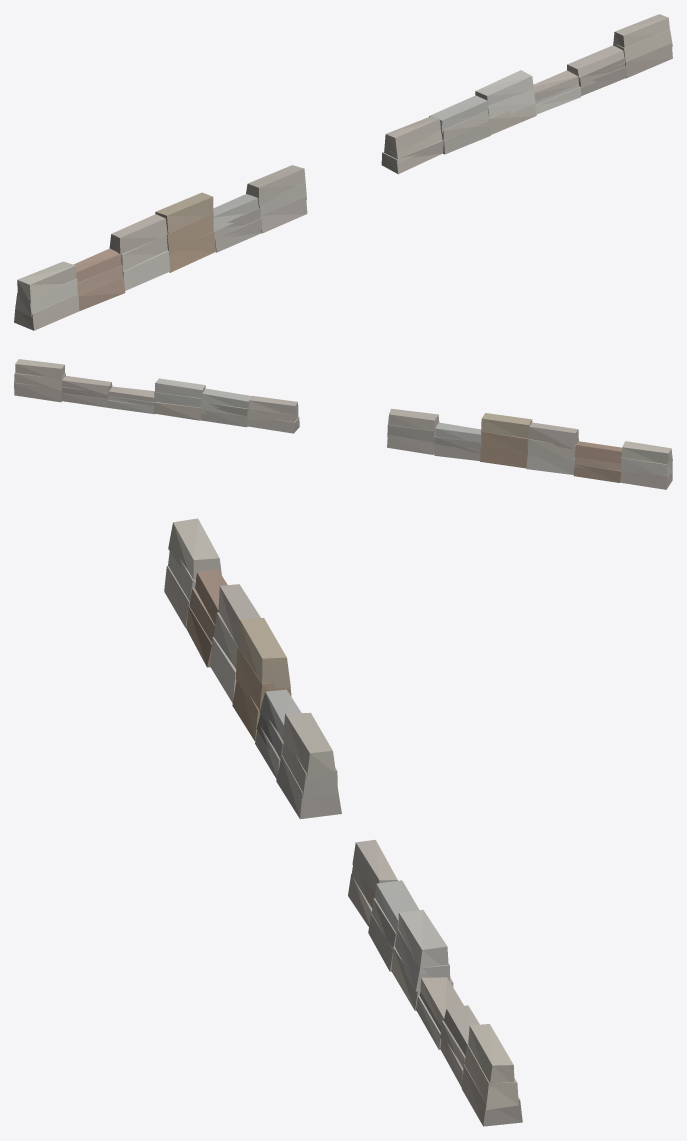
Rendered from farm_-7_1_mid.glb.
3 views of the same model, one above another, from view 1: azimuth 30°, elevation 25°; view 2: azimuth 150°, elevation 25°; view 3: azimuth 270°, elevation 25° (orthographic). The views are drawn at different scales.
Visible parts, largest first — view 1: geometry_0; view 2: geometry_0; view 3: geometry_0.
Part boxes in pixels (x1=…): geometry_0: x1=14, y1=14, x2=672, y2=330; geometry_0: x1=14, y1=359, x2=672, y2=489; geometry_0: x1=164, y1=518, x2=522, y2=1126.
Bounding box in the file's own units: 21.45 × 1.64 × 5.76.
